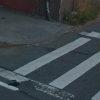Crosswalk: (11, 44, 100, 100)
